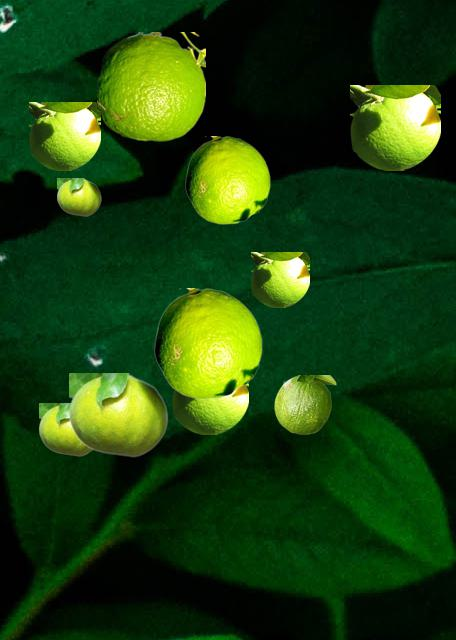dalandan: (154, 288, 261, 398), (97, 32, 204, 140), (69, 373, 167, 456), (350, 85, 439, 169), (185, 136, 269, 223), (29, 102, 99, 169), (172, 385, 247, 433), (274, 375, 335, 433), (251, 252, 308, 306), (39, 403, 91, 455), (57, 178, 100, 215)
